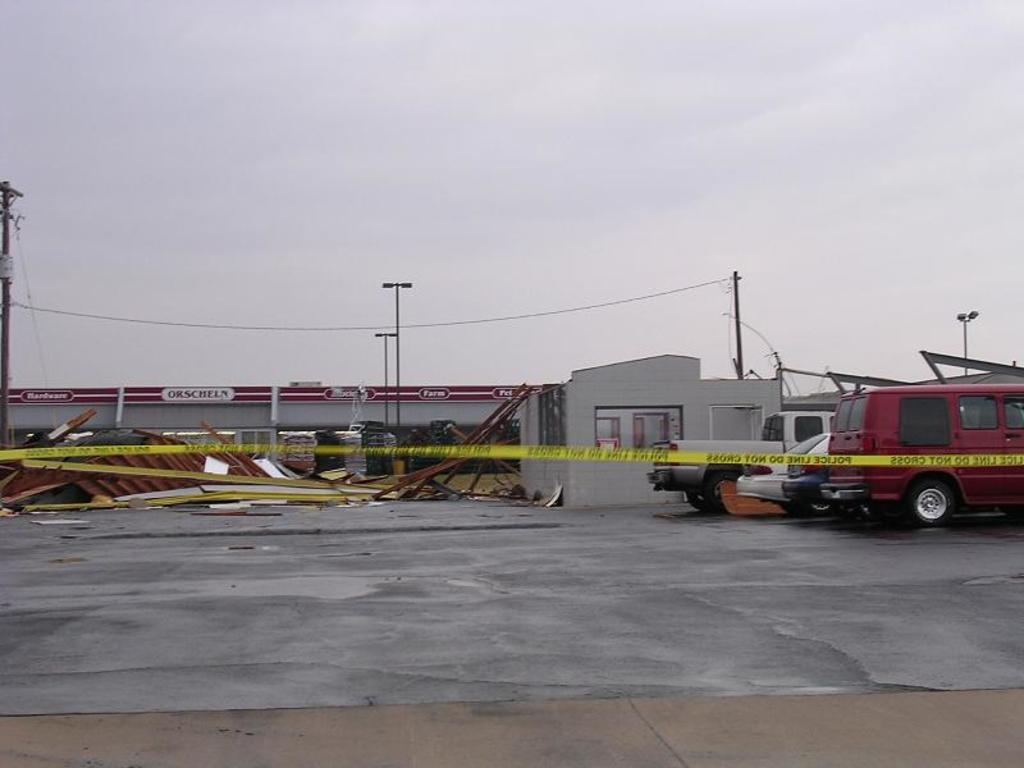Car: (737, 432, 830, 514)
